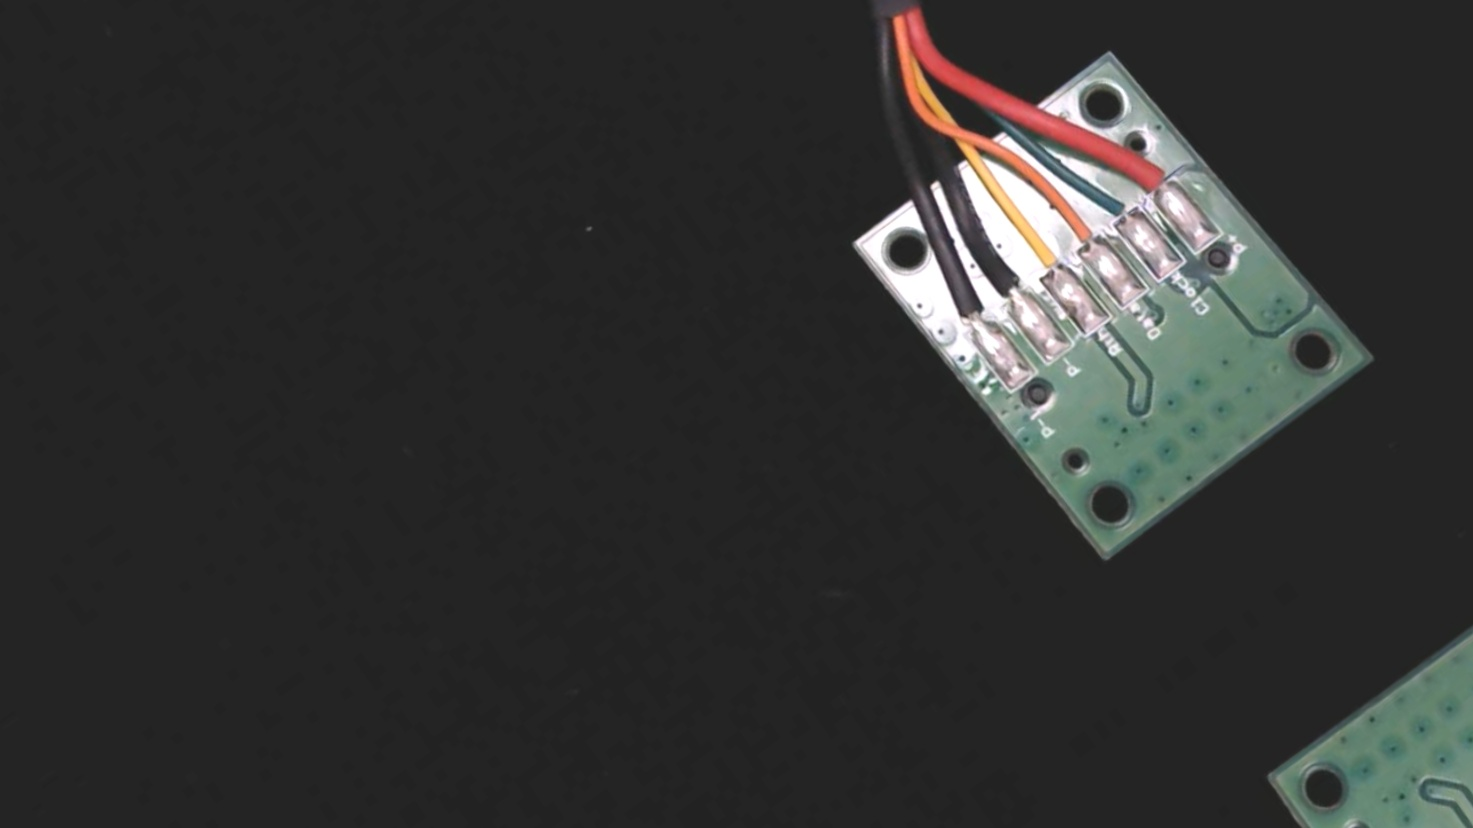Black: (964, 238, 1045, 325)
Black1: (927, 265, 1009, 353)
Green: (1076, 163, 1156, 245)
Orange: (1036, 184, 1121, 275)
Red: (1109, 127, 1194, 217)
Yellow: (998, 205, 1087, 301)
